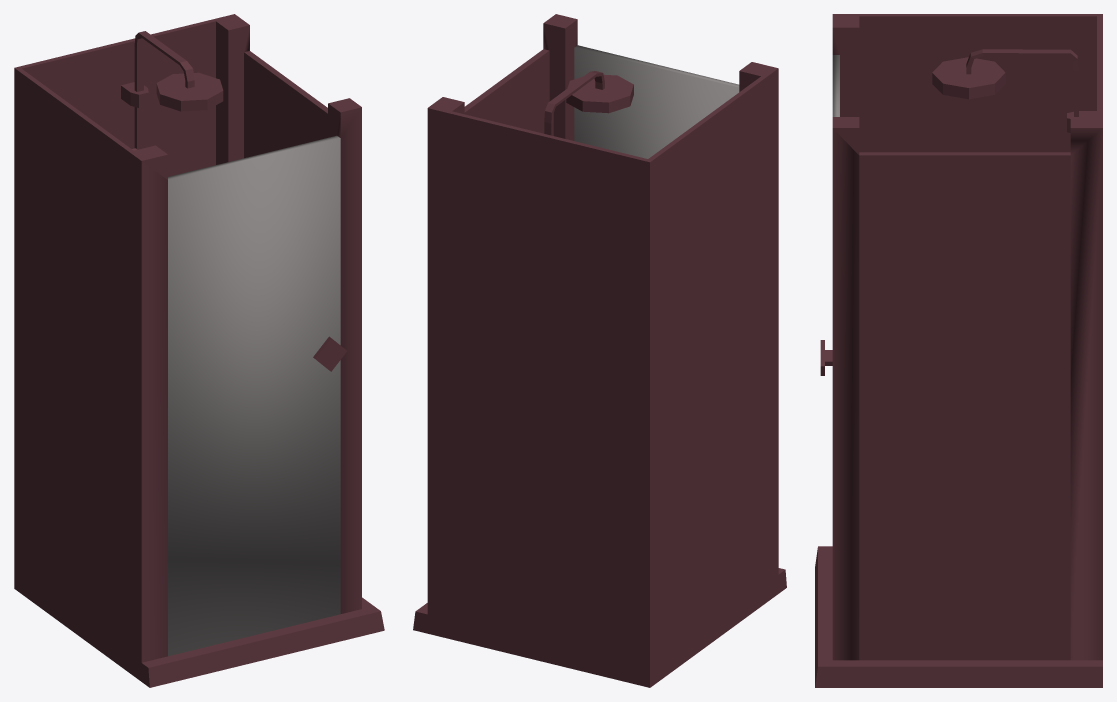
Rendered from shower-enclosure-rectangle_doorSeparated.fbx.
3 renders of one model, left to right at view 1: azimuth 30°, elevation 25°; view 2: azimuth 150°, elevation 25°; view 3: azimuth 270°, elevation 25°, orthographic. The views are drawn at different scales.
Visible parts, largest first — view 1: shower-enclosure-rectangle, shower-enclosure-rectangle_door, shower-enclosure-rectangle_glass; view 2: shower-enclosure-rectangle, shower-enclosure-rectangle_door, shower-enclosure-rectangle_glass; view 3: shower-enclosure-rectangle_glass, shower-enclosure-rectangle, shower-enclosure-rectangle_door.
Boxes of the visible parts, x1=… form: shower-enclosure-rectangle: x1=14, y1=14, x2=384, y2=687; shower-enclosure-rectangle_door: x1=168, y1=135, x2=346, y2=656; shower-enclosure-rectangle_glass: x1=244, y1=51, x2=327, y2=158; shower-enclosure-rectangle: x1=413, y1=14, x2=786, y2=687; shower-enclosure-rectangle_door: x1=574, y1=45, x2=739, y2=158; shower-enclosure-rectangle_glass: x1=464, y1=49, x2=549, y2=133; shower-enclosure-rectangle_glass: x1=859, y1=152, x2=1070, y2=660; shower-enclosure-rectangle: x1=815, y1=14, x2=1102, y2=687; shower-enclosure-rectangle_door: x1=820, y1=55, x2=839, y2=375.
Bounding box in the file's own units: 98 × 216 × 98.
